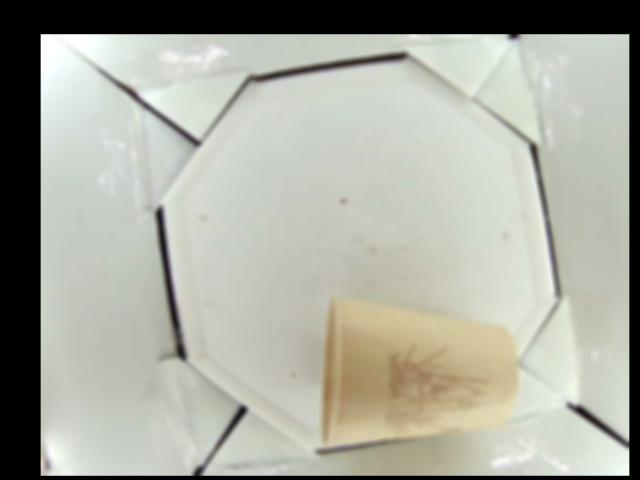Cup: (320, 298, 518, 445)
